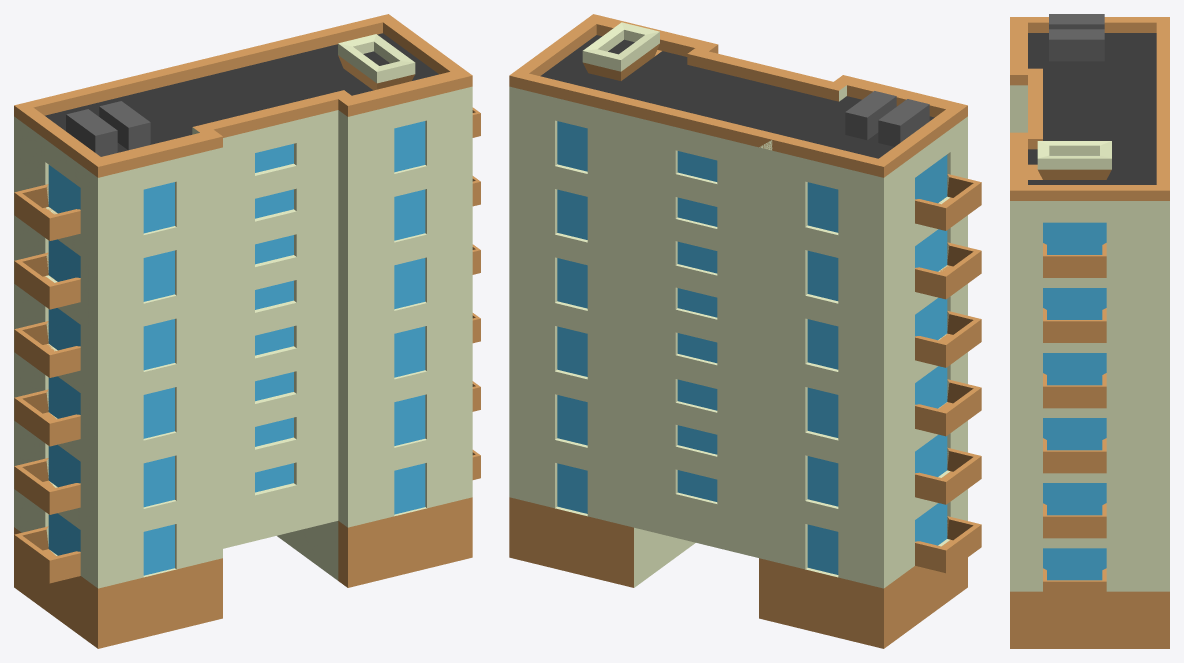
Rendered from apartment.fbx.
3 renders of one model, left to right at view 1: azimuth 30°, elevation 25°; view 2: azimuth 150°, elevation 25°; view 3: azimuth 270°, elevation 25°, orthographic. The views are drawn at different scales.
Visible parts, largest first — view 1: apartmanet, color_orange, glass, top_plane, top_blackTing; view 2: apartmanet, color_orange, glass, top_plane, top_blackTing; view 3: apartmanet, color_orange, top_plane, glass, top_blackTing.
Boxes of the visible parts, x1,y1,x2,y2 form: apartmanet: [14, 34, 472, 588]; color_orange: [14, 14, 480, 648]; glass: [48, 121, 425, 575]; top_plane: [45, 33, 438, 152]; top_blackTing: [66, 101, 150, 156]; apartmanet: [509, 22, 967, 588]; color_orange: [509, 14, 981, 648]; glass: [557, 121, 947, 574]; top_plane: [540, 35, 934, 158]; top_blackTing: [845, 91, 929, 146]; apartmanet: [1010, 85, 1169, 591]; color_orange: [1010, 17, 1169, 648]; top_plane: [1028, 33, 1156, 184]; glass: [1043, 222, 1106, 580]; top_blackTing: [1049, 14, 1104, 61].
Bounding box in the file's own units: 1045 × 1145 × 353.
